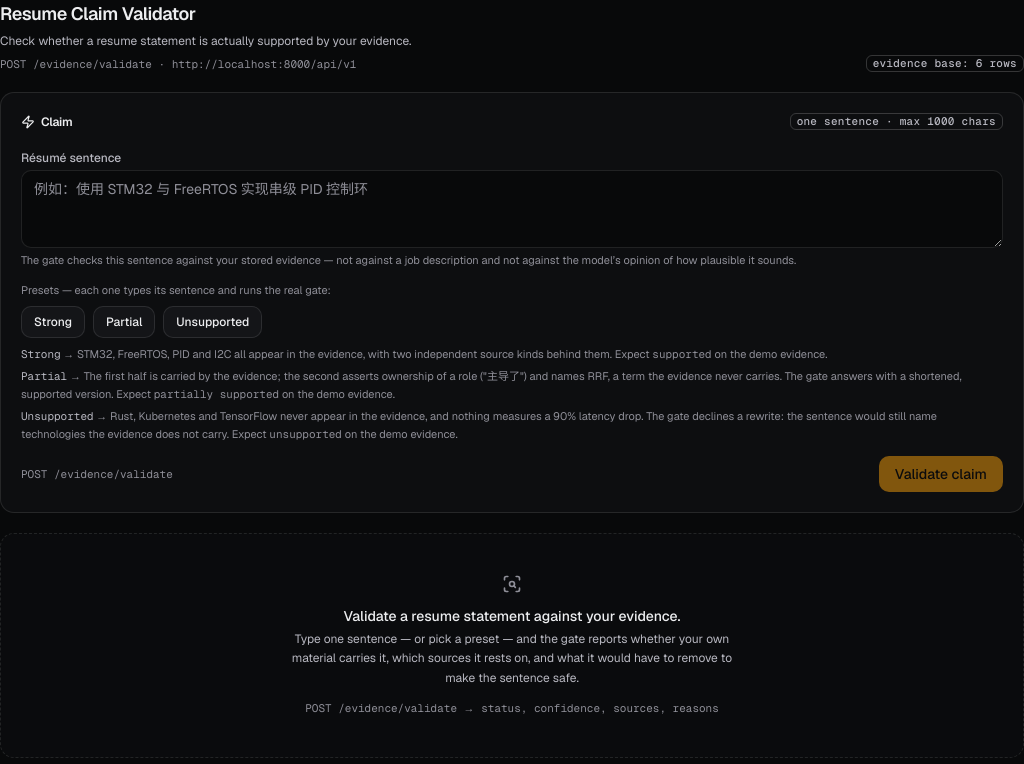
the claim validator page › states the supported verdict in its own words
Type "使用 STM32 与 FreeRTOS 实现串级 PID 控制环" into the text box labelled "Résumé sentence". click: [512, 209]
box: [21, 170, 1003, 248]
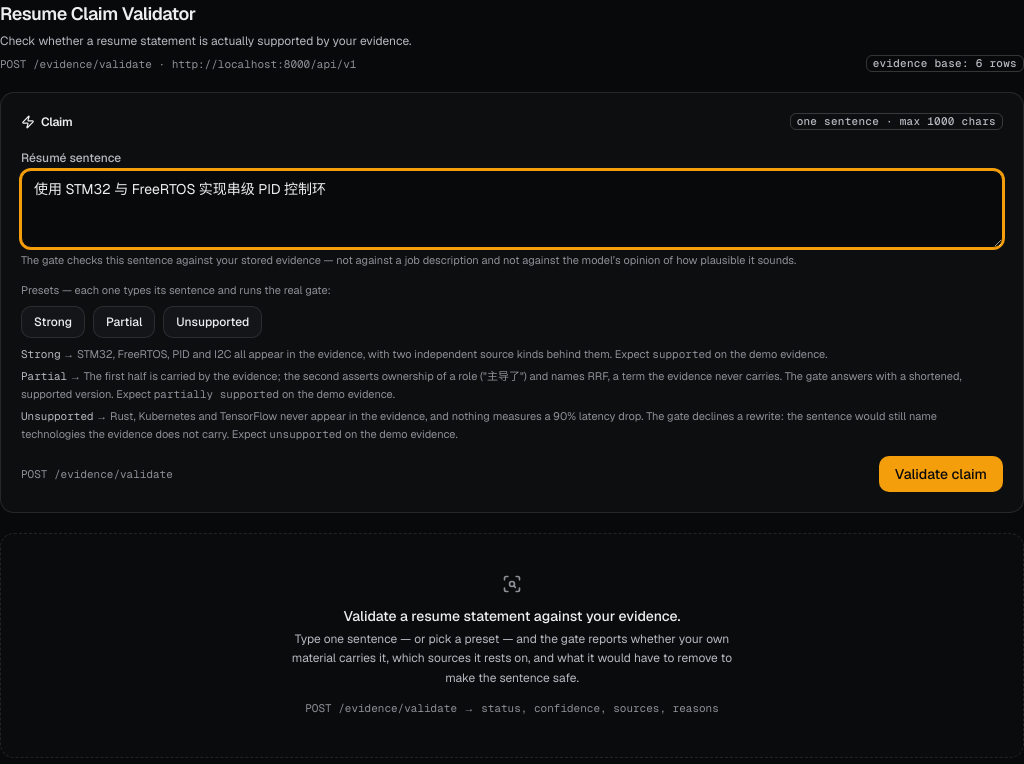
Click the button with test id "validate-claim". click: [941, 474]
box: [879, 456, 1003, 492]
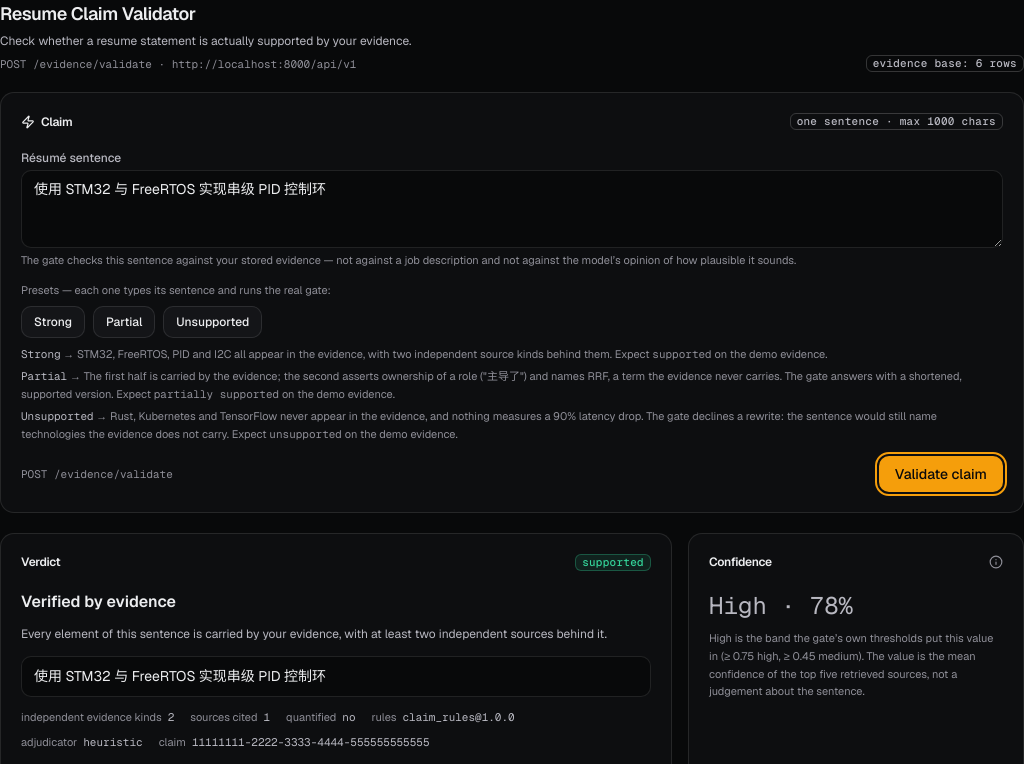
expect the text with test id "verdict-label" reads "Verified by evidence": met, box [21, 591, 176, 612]
expect the text with test id "verdict-badge" reads "supported": met, box [582, 555, 644, 569]
expect the text with test id "confidence" reads "High · 78%": met, box [709, 590, 853, 621]
